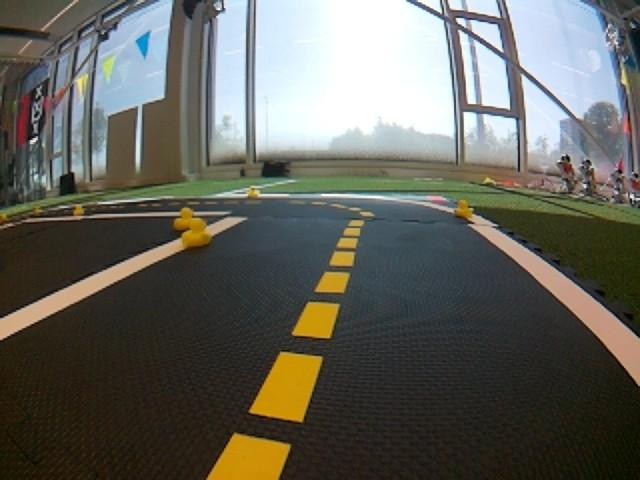Duckies: (179, 219, 213, 246), (173, 210, 202, 230), (454, 199, 473, 217), (246, 187, 260, 200), (71, 205, 84, 215), (32, 206, 42, 213), (0, 213, 8, 220)
